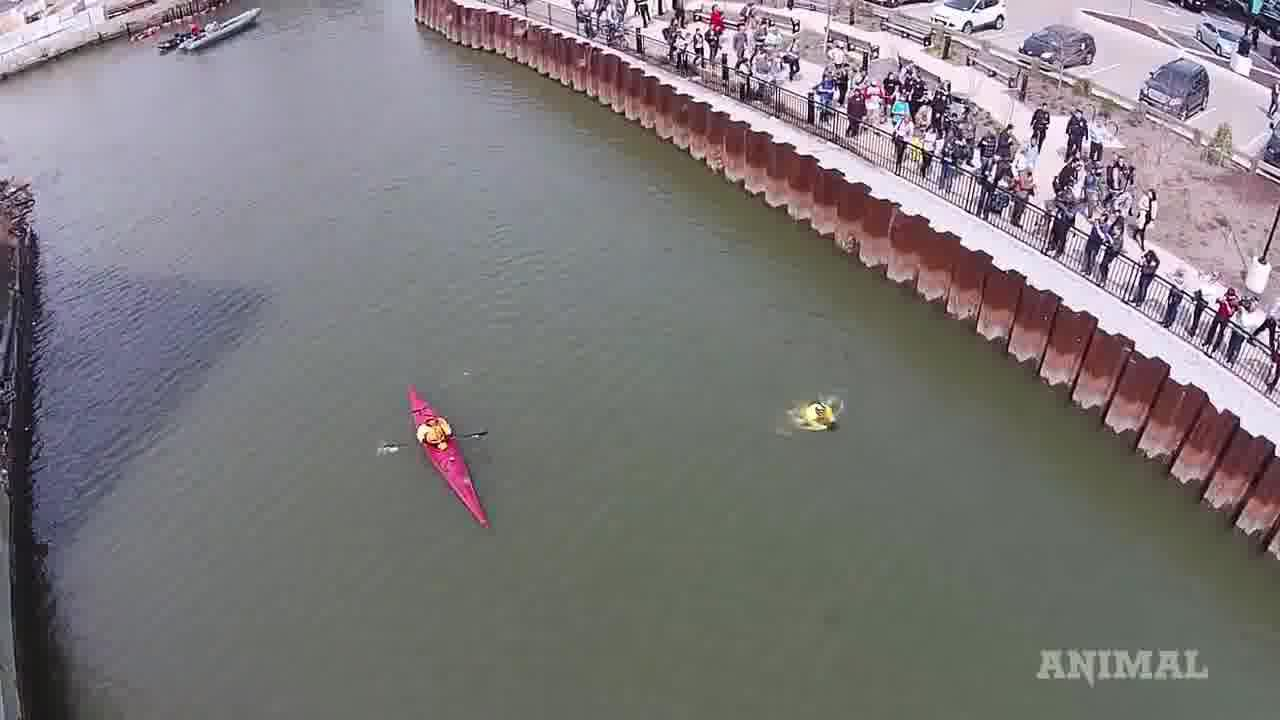human: (783, 383, 860, 456)
